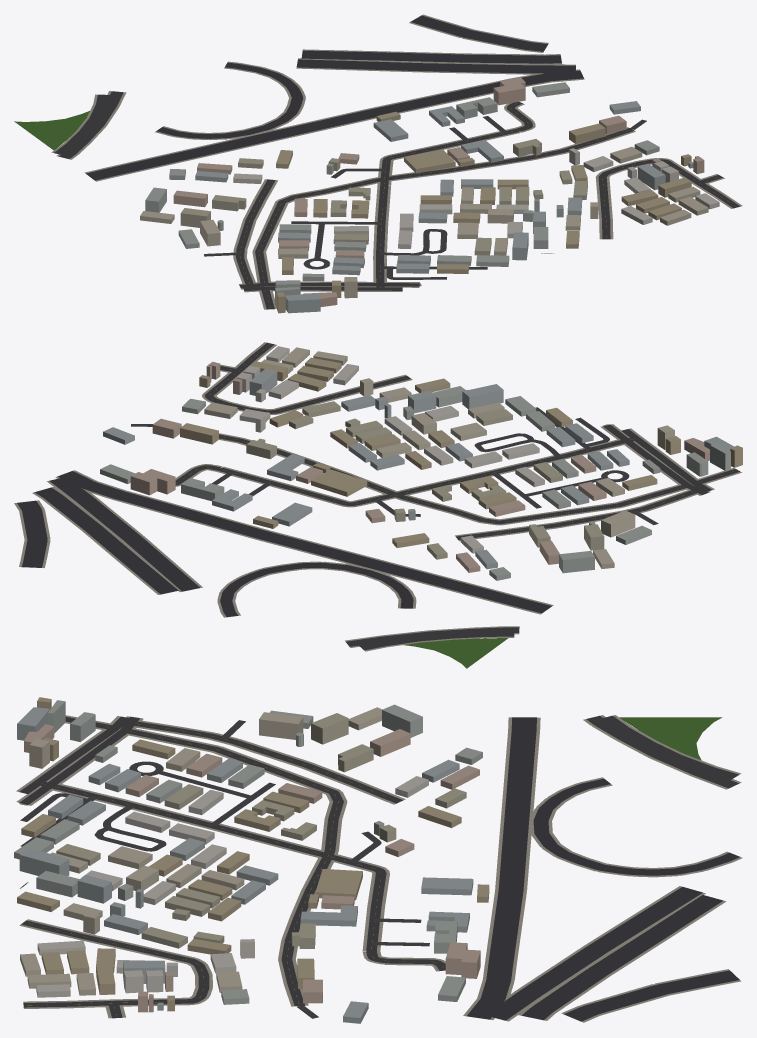
3 views of the same model, one above another, from view 1: azimuth 30°, elevation 25°; view 2: azimuth 150°, elevation 25°; view 3: azimuth 270°, elevation 25° (orthographic). The views are drawn at different scales.
Visible parts, largest first — view 1: tile_0_-2; view 2: tile_0_-2; view 3: tile_0_-2.
Part boxes in pixels (<box>): tile_0_-2: <box>14,14,742,313</box>; tile_0_-2: <box>14,342,742,668</box>; tile_0_-2: <box>14,697,742,1023</box>.
Bounding box in the file's own units: 414 × 13.2 × 410.
